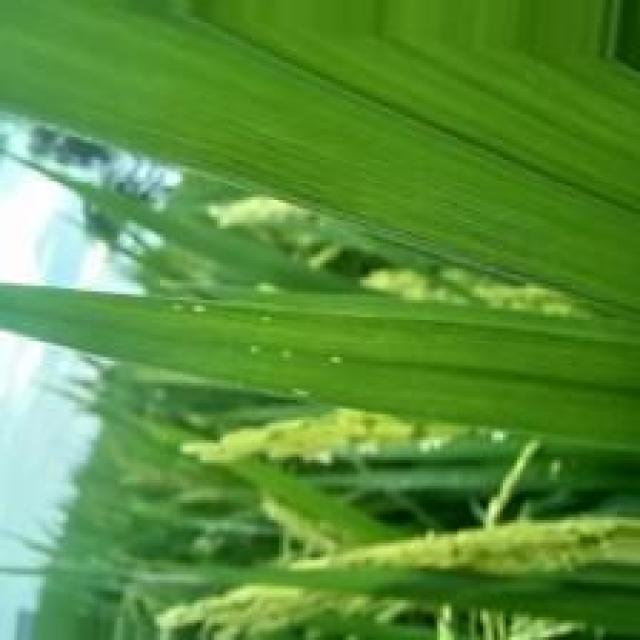HealthyLeaf: (24, 34, 634, 312), (353, 304, 637, 444)
